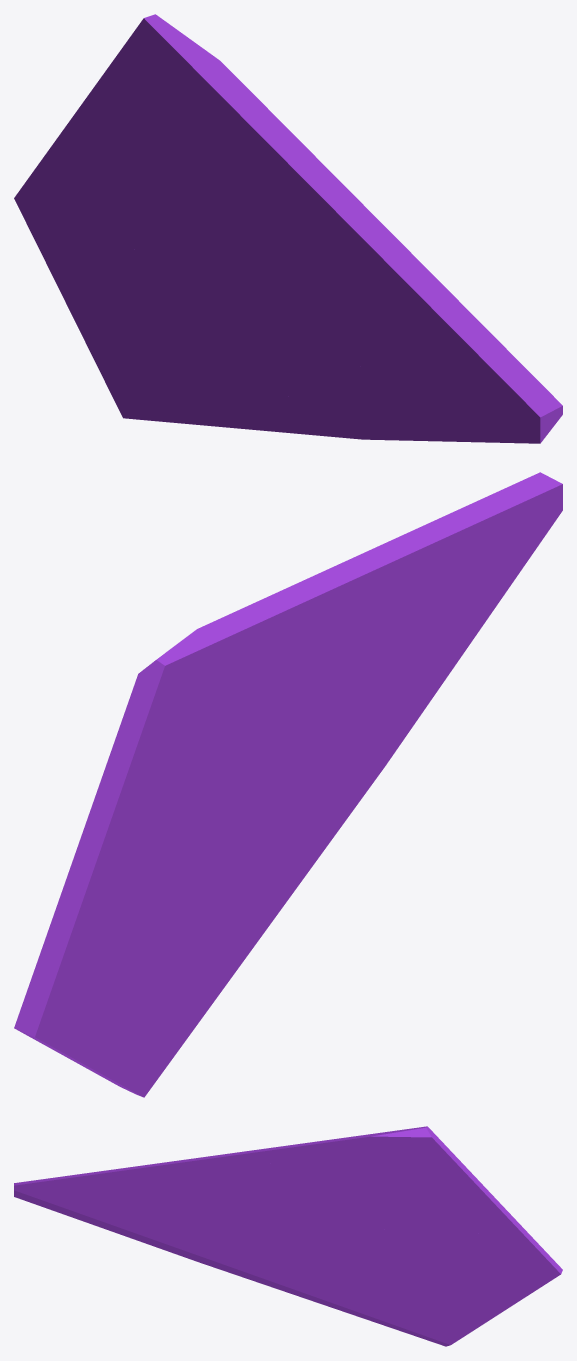
Rendered from Window_9_7_chunks.fbx.
The picture shows the model from 3 angles, top to bottom: view 1: azimuth 30°, elevation 25°; view 2: azimuth 150°, elevation 25°; view 3: azimuth 270°, elevation 25°; orthographic projection. The views are drawn at different scales.
Parts seen in each view (by area): view 1: Window_9_7_5, Window_9_7_3, Window_9_7_1, Window_9_7_12, Window_9_7_2, Window_9_7_7, Window_9_7_9, Window_9_7_10, Window_9_7_8; view 2: Window_9_7_5, Window_9_7_12, Window_9_7_3, Window_9_7_2, Window_9_7_7, Window_9_7_1, Window_9_7_9, Window_9_7_10, Window_9_7_8; view 3: Window_9_7_12, Window_9_7_5, Window_9_7_3, Window_9_7_7, Window_9_7_1, Window_9_7_8, Window_9_7_0, Window_9_7_10, Window_9_7_9, Window_9_7_6, Window_9_7_11, Window_9_7_2 (+1 smaller).
Part boxes in pixels (x1,y1,x2,y2): Window_9_7_5: (14, 147, 179, 422); Window_9_7_3: (360, 305, 562, 443); Window_9_7_1: (276, 165, 462, 346); Window_9_7_12: (51, 14, 207, 193); Window_9_7_2: (250, 211, 362, 439); Window_9_7_7: (176, 263, 300, 433); Window_9_7_9: (182, 52, 323, 244); Window_9_7_10: (122, 150, 262, 275); Window_9_7_8: (75, 163, 229, 310); Window_9_7_5: (14, 911, 201, 1097); Window_9_7_12: (49, 635, 211, 931); Window_9_7_3: (382, 472, 562, 767); Window_9_7_2: (272, 664, 384, 852); Window_9_7_7: (198, 768, 322, 1013); Window_9_7_1: (298, 518, 458, 676); Window_9_7_9: (189, 582, 315, 730); Window_9_7_10: (144, 719, 283, 872); Window_9_7_8: (96, 786, 250, 911); Window_9_7_12: (376, 1126, 524, 1235); Window_9_7_5: (418, 1229, 562, 1346); Window_9_7_3: (14, 1168, 203, 1262); Window_9_7_7: (263, 1226, 387, 1323); Window_9_7_1: (118, 1148, 279, 1215); Window_9_7_8: (333, 1227, 516, 1272); Window_9_7_0: (232, 1179, 318, 1281); Window_9_7_10: (308, 1187, 445, 1231); Window_9_7_9: (263, 1132, 386, 1176); Window_9_7_6: (375, 1271, 448, 1343); Window_9_7_11: (279, 1164, 379, 1212); Window_9_7_2: (200, 1192, 272, 1283).
Bounding box in the file's own units: 27.2 × 483 × 1098.
